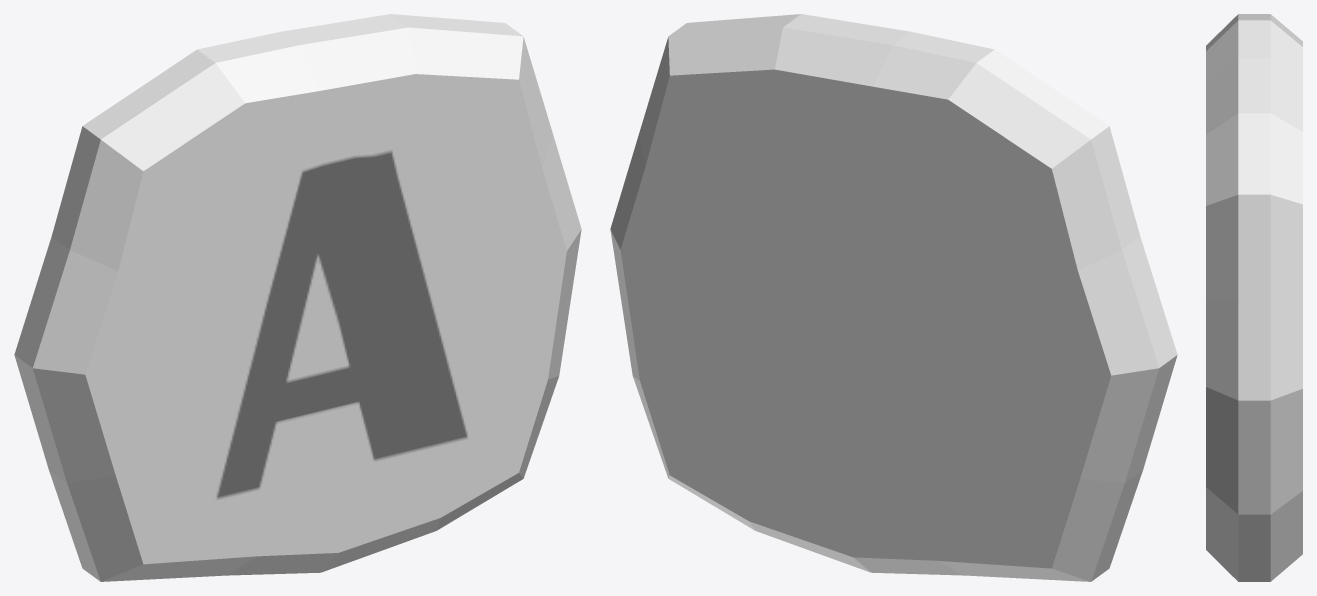
The model's file is Button.fbx.
3 views of the same model, side by side, from view 1: azimuth 30°, elevation 25°; view 2: azimuth 150°, elevation 25°; view 3: azimuth 270°, elevation 25° (orthographic). The views are drawn at different scales.
Visible parts, largest first — view 1: Cube.002; view 2: Cube.002; view 3: Cube.002.
Boxes of the visible parts, box(x1,y1,x2,y2) form: Cube.002: box(14, 14, 581, 581); Cube.002: box(610, 14, 1177, 581); Cube.002: box(1206, 14, 1302, 581).
Bounding box in the file's own units: 1.3 × 1.21 × 0.2262.
